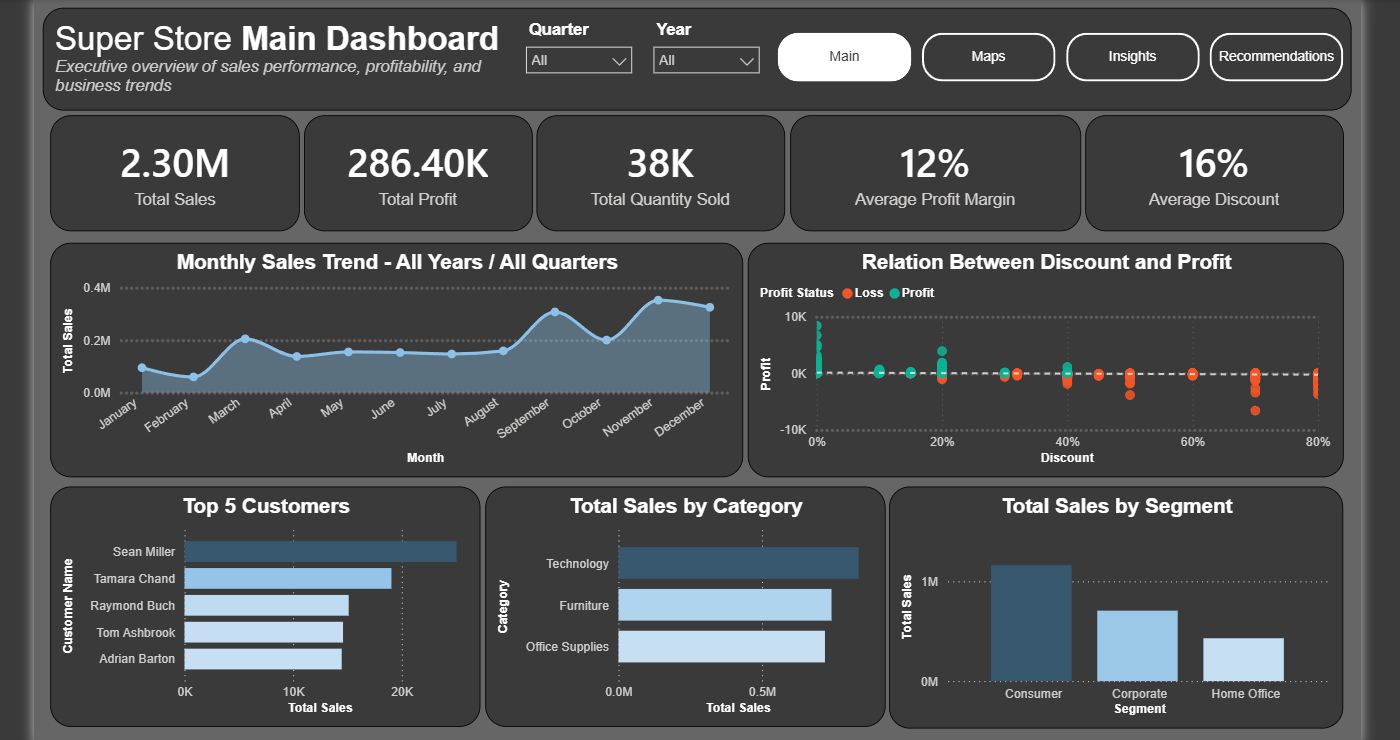

Layout of this report page (visuals, bound fields, positions):
{"tool":"powerbi","page":{"name":"Main","canvas":[1280,720],"ordinal":0},"visuals":[{"type":"textbox","box":[8.4,8.4,1263.1,98.9],"z":0},{"type":"cardVisual","fields":{"Data":["Sum(Working Area.Sales)"]},"box":[16,112,241.1,111.9],"z":0,"group":"g1"},{"type":"lineChart","fields":{"Y":["Sum(Working Area.Sales)"],"Category":["Working Area.Order Date.Variation.Date Hierarchy.Month"]},"box":[16,234.7,668.5,226.2],"z":1000},{"type":"cardVisual","fields":{"Data":["Sum(Working Area.Profit)"]},"box":[261.2,112,220.6,111.9],"z":2000,"group":"g1"},{"type":"scatterChart","title":"Relation Between Discount and Profit","fields":{"X":["Working Area.Discount"],"Y":["Working Area.Profit"],"Series":["Working Area.Profit Status"]},"box":[688.6,234.7,575.4,226.2],"z":2000},{"type":"cardVisual","fields":{"Data":["Sum(Working Area.Quantity)"]},"box":[485.9,112,239.7,111.9],"z":3000,"group":"g1"},{"type":"barChart","title":"Total Sales by Category","fields":{"Category":["Working Area.Category"],"Y":["Sum(Working Area.Sales)"]},"box":[435.2,470.6,386.3,232.2],"z":3000},{"type":"cardVisual","fields":{"Data":["Avg(Working Area.Profit Margin)"]},"box":[729.7,112,280.8,111.9],"z":4000,"group":"g1"},{"type":"columnChart","title":"Total Sales by Segment","fields":{"Category":["Working Area.Segment"],"Y":["Sum(Working Area.Sales)"]},"box":[825.6,470.6,438.4,233.4],"z":4000},{"type":"cardVisual","fields":{"Data":["Avg(Working Area.Discount)"]},"box":[1014.7,112,249.3,111.9],"z":5000,"group":"g1"},{"type":"slicer","fields":{"Values":["Working Area.Order Date.Variation.Date Hierarchy.Year"]},"box":[587.4,15.7,123.1,80.8],"z":6000,"group":"g2"},{"type":"barChart","title":"Top 5 Customers","fields":{"Y":["Sum(Working Area.Sales)"],"Category":["Working Area.Customer Name"]},"box":[16,470.6,415.1,232.2],"z":6000},{"type":"group","id":"g1","title":"Group 1","box":[16,112,1248,111.9],"z":7000},{"type":"slicer","fields":{"Values":["Working Area.Order Date.Variation.Date Hierarchy.Quarter"]},"box":[464.3,15.7,123.1,80.8],"z":8000,"group":"g2"},{"type":"pageNavigator","box":[717.8,32.6,546.5,47.1],"z":8001},{"type":"group","id":"g2","title":"Group 4","box":[464.3,15.7,246.1,80.8],"z":8002}]}

Visuals, with their boxes on the page's 1280x720 design canvas (x1, y1, x2, y2). These are canvas units, not pixel positions in the 1400x740 screenshot, which may show the page scaled, cropped or inside an application window:
textbox: l=8, t=8, r=1272, b=107
cardVisual - Sum(Working Area.Sales): l=16, t=112, r=257, b=224
lineChart - Sum(Working Area.Sales) x Working Area.Order Date.Variation.Date Hierarchy.Month: l=16, t=235, r=684, b=461
cardVisual - Sum(Working Area.Profit): l=261, t=112, r=482, b=224
"Relation Between Discount and Profit" scatterChart: l=689, t=235, r=1264, b=461
cardVisual - Sum(Working Area.Quantity): l=486, t=112, r=726, b=224
"Total Sales by Category" barChart: l=435, t=471, r=822, b=703
cardVisual - Avg(Working Area.Profit Margin): l=730, t=112, r=1010, b=224
"Total Sales by Segment" columnChart: l=826, t=471, r=1264, b=704
cardVisual - Avg(Working Area.Discount): l=1015, t=112, r=1264, b=224
slicer - Working Area.Order Date.Variation.Date Hierarchy.Year: l=587, t=16, r=710, b=96
"Top 5 Customers" barChart: l=16, t=471, r=431, b=703
"Group 1" group: l=16, t=112, r=1264, b=224
slicer - Working Area.Order Date.Variation.Date Hierarchy.Quarter: l=464, t=16, r=587, b=96
pageNavigator: l=718, t=33, r=1264, b=80
"Group 4" group: l=464, t=16, r=710, b=96
